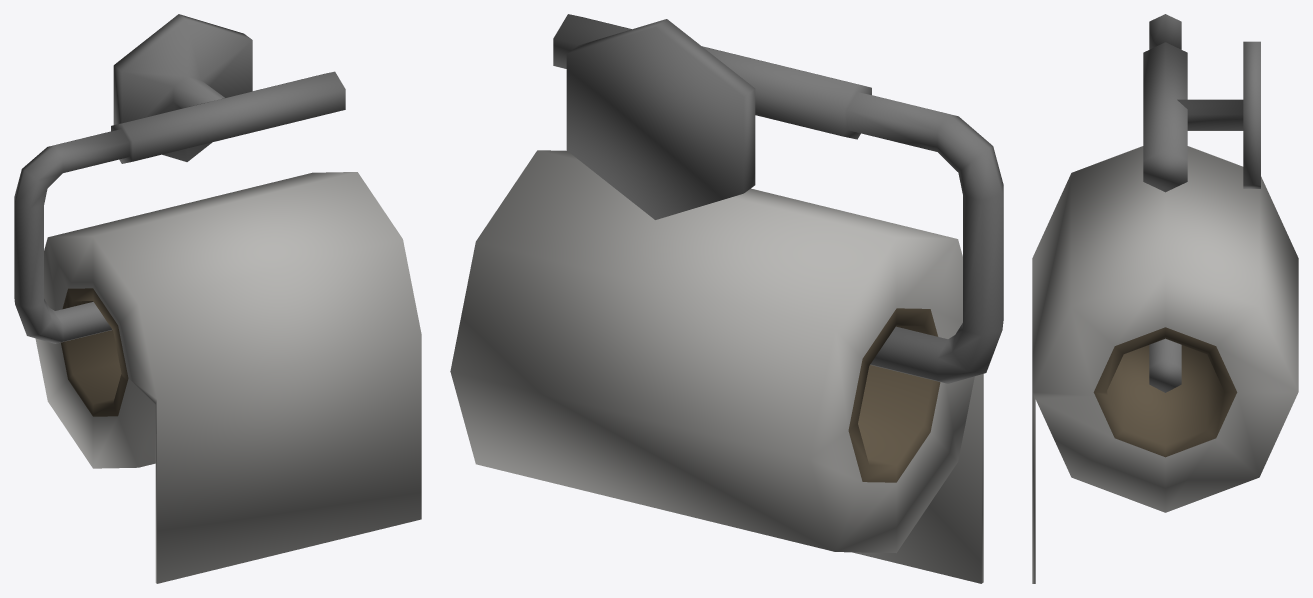
Rendered from Bathroom_ToiletPaper.glb.
3 views of the same model, side by side, from view 1: azimuth 30°, elevation 25°; view 2: azimuth 150°, elevation 25°; view 3: azimuth 270°, elevation 25° (orthographic). The views are drawn at different scales.
Parts seen in each view (by area): view 1: Bathroom_ToiletPaper; view 2: Bathroom_ToiletPaper; view 3: Bathroom_ToiletPaper.
Part boxes in pixels (left/top/right/bottom): Bathroom_ToiletPaper: left=14, top=14, right=421, bottom=583; Bathroom_ToiletPaper: left=450, top=14, right=1003, bottom=583; Bathroom_ToiletPaper: left=1032, top=14, right=1298, bottom=583.
Size of the model in its own units: 0.2999 by 0.3444 by 0.1749.
